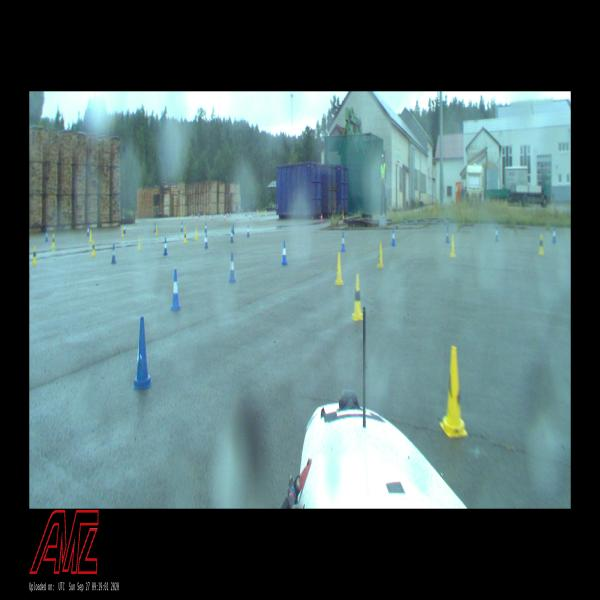blue_cone: (133, 317, 152, 389), (170, 270, 182, 310), (229, 253, 235, 282), (282, 241, 288, 264), (340, 232, 346, 252), (112, 244, 117, 263), (391, 229, 396, 246), (163, 238, 168, 255), (446, 226, 450, 243), (552, 228, 556, 243), (230, 229, 234, 242), (205, 234, 208, 248), (45, 230, 48, 242), (496, 227, 498, 241), (205, 223, 207, 234), (247, 226, 249, 236), (124, 224, 126, 234), (181, 222, 183, 232), (232, 224, 234, 234), (87, 226, 89, 236), (154, 223, 156, 232)
orange_cone: (342, 214, 344, 222), (249, 213, 251, 220), (321, 214, 323, 220), (224, 214, 226, 220), (332, 215, 334, 221), (211, 215, 212, 221), (236, 214, 237, 220)
yellow_cone: (439, 346, 468, 437), (351, 274, 363, 320), (335, 253, 344, 284), (377, 242, 384, 267), (538, 235, 544, 254), (450, 235, 455, 257), (32, 246, 37, 264), (92, 240, 95, 256), (52, 233, 55, 248), (184, 228, 187, 242), (138, 236, 141, 249), (195, 228, 198, 240), (89, 230, 92, 241), (122, 226, 124, 236), (156, 226, 157, 236)
